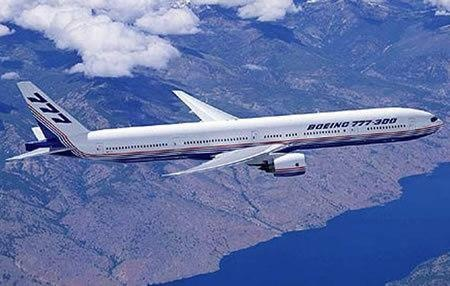airplane: (10, 83, 444, 171)
